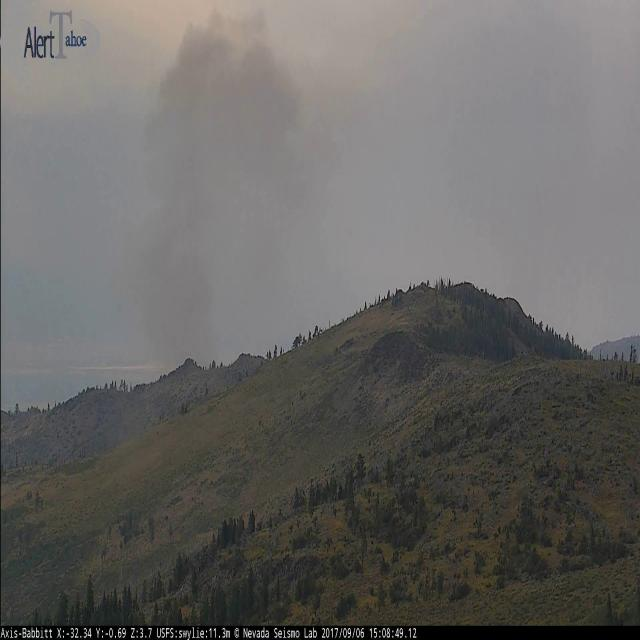smoke: (125, 0, 311, 377)
